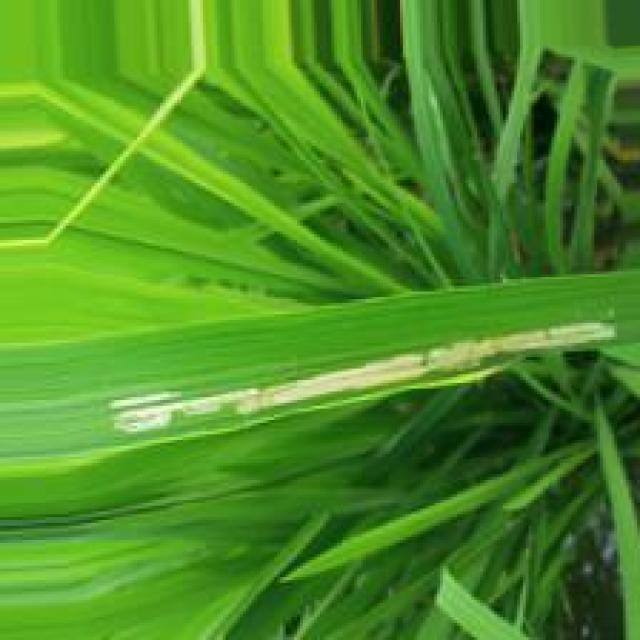Rice_Hispa: (116, 317, 620, 429)
